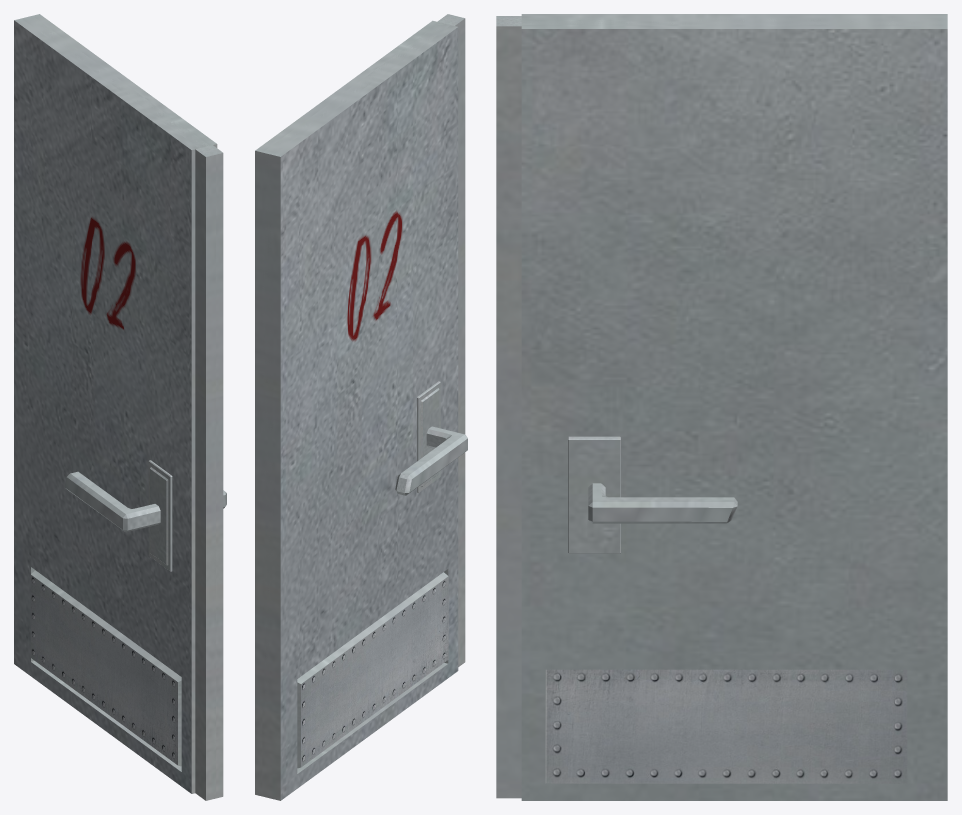
Rendered from door2.fbx.
3 renders of one model, left to right at view 1: azimuth 30°, elevation 25°; view 2: azimuth 150°, elevation 25°; view 3: azimuth 270°, elevation 25°, orthographic. The views are drawn at different scales.
Parts seen in each view (by area): view 1: door4_pCube160; view 2: door4_pCube160; view 3: door4_pCube160.
Boxes of the visible parts, x1,y1,x2,y2 form: door4_pCube160: (14,14,226,800); door4_pCube160: (255,14,467,800); door4_pCube160: (496,14,947,800).
Size of the model in its own units: 45.21 by 267 by 142.
